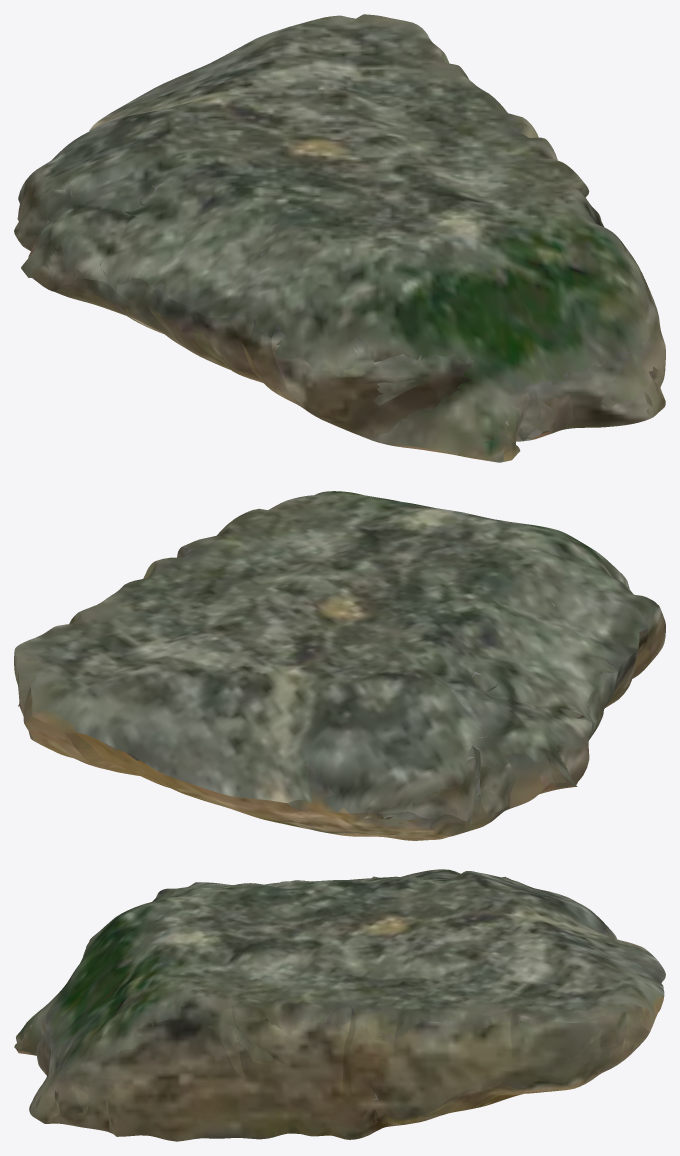
Rendered from jade.glb.
3 views of the same model, one above another, from view 1: azimuth 30°, elevation 25°; view 2: azimuth 150°, elevation 25°; view 3: azimuth 270°, elevation 25° (orthographic). The views are drawn at different scales.
Visible parts, largest first — view 1: Object_2; view 2: Object_2; view 3: Object_2.
Boxes of the visible parts, <box> form: Object_2: <box>14,14,665,462</box>; Object_2: <box>14,491,665,840</box>; Object_2: <box>14,869,665,1141</box>.
Bounding box in the file's own units: 45 × 13.99 × 60.75.
Materials: 1 (1 with a texture image).
